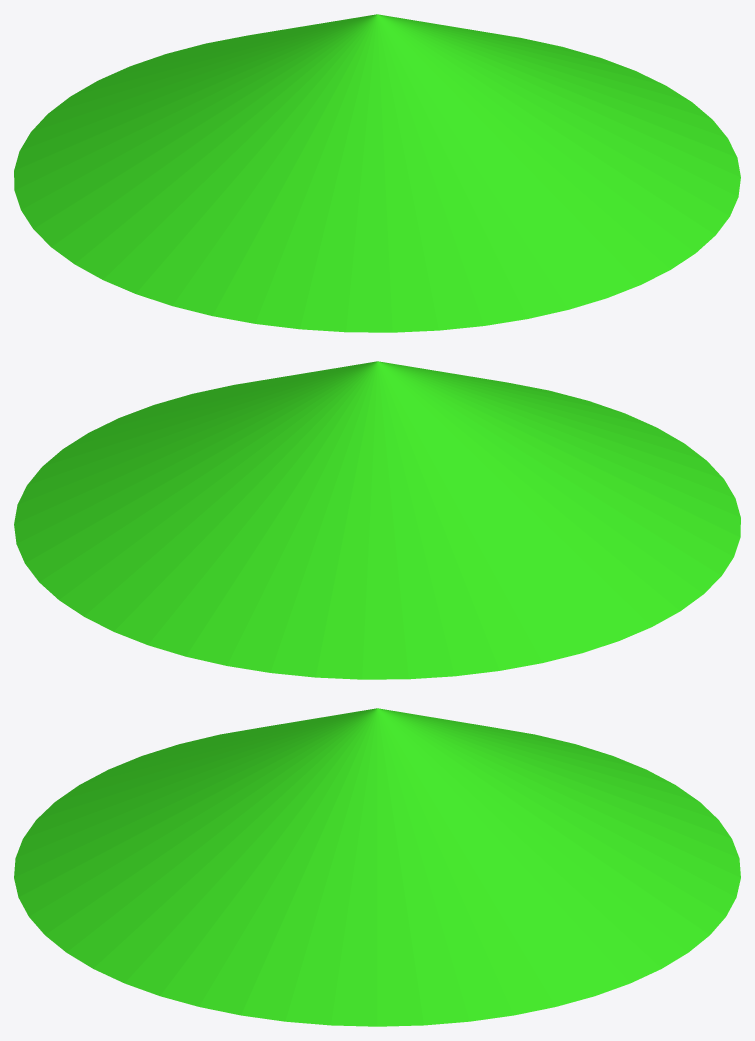
File: plant_powder.glb
The picture shows the model from 3 angles, top to bottom: view 1: azimuth 30°, elevation 25°; view 2: azimuth 150°, elevation 25°; view 3: azimuth 270°, elevation 25°; orthographic projection.
Visible parts, largest first — view 1: pile_of_powder; view 2: pile_of_powder; view 3: pile_of_powder.
Part boxes in pixels (bbox=[...]): pile_of_powder: bbox=[14, 14, 740, 332]; pile_of_powder: bbox=[14, 361, 740, 679]; pile_of_powder: bbox=[14, 708, 740, 1026].
Bounding box in the file's own units: 19.98 × 5 × 19.99.
